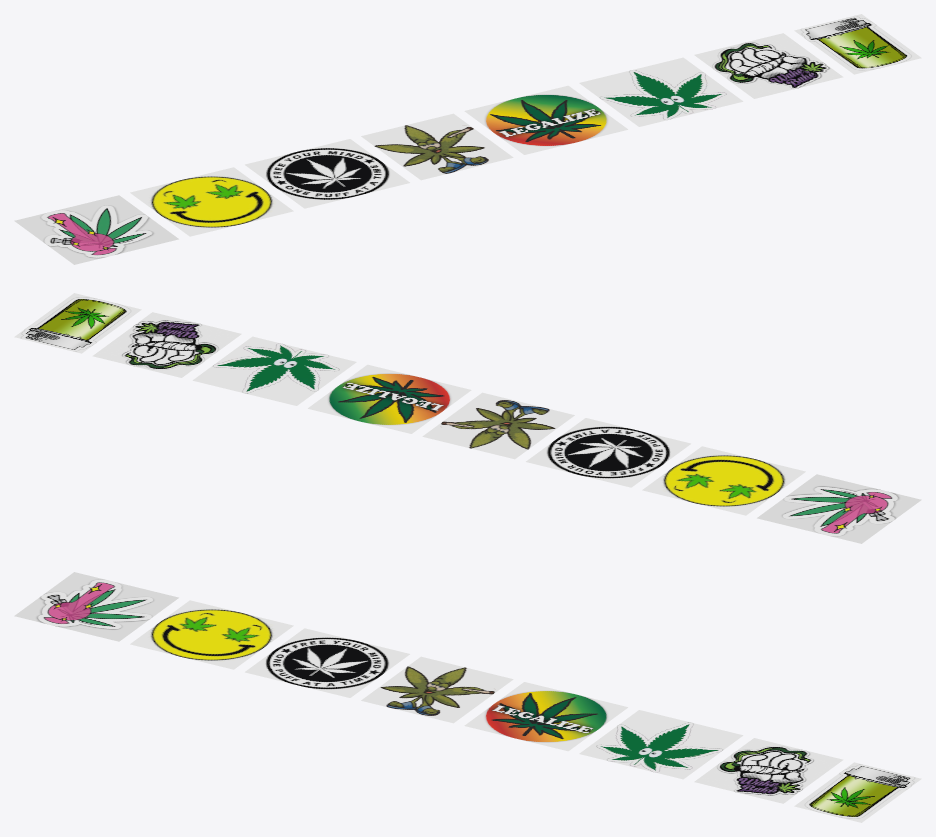
File: stickers.fbx
3 views of the same model, one above another, from view 1: azimuth 30°, elevation 25°; view 2: azimuth 150°, elevation 25°; view 3: azimuth 330°, elevation 25° (orthographic).
Visible parts, largest first — view 1: freeyourmind, bong_leaf, oO, legalize, eyesontheprize, jollyleafsmoker, wakeNbake, weedbottle; view 2: freeyourmind, bong_leaf, oO, legalize, eyesontheprize, jollyleafsmoker, wakeNbake, weedbottle; view 3: freeyourmind, bong_leaf, oO, legalize, eyesontheprize, jollyleafsmoker, wakeNbake, weedbottle.
Boxes of the visible parts, x1,y1,x2,y2 form: freeyourmind: (245,139,409,208); bong_leaf: (14,195,178,264); oO: (579,57,743,126); legalize: (464,85,627,154); eyesontheprize: (130,167,293,236); jollyleafsmoker: (361,113,513,180); wakeNbake: (694,33,843,98); weedbottle: (794,14,921,74); freeyourmind: (526,418,690,487); bong_leaf: (757,474,921,543); oO: (192,336,356,405); legalize: (308,364,471,433); eyesontheprize: (642,446,805,515); jollyleafsmoker: (422,392,574,459); wakeNbake: (92,312,241,377); weedbottle: (14,293,141,353); freeyourmind: (245,628,409,697); bong_leaf: (14,572,178,641); oO: (579,710,743,779); legalize: (464,682,627,751); eyesontheprize: (130,600,293,669); jollyleafsmoker: (361,656,513,723); wakeNbake: (694,738,843,803); weedbottle: (794,762,921,822).
Size of the model in its own units: 812 by 1.63e-05 by 100.
Materials: 8 (8 with a texture image).
